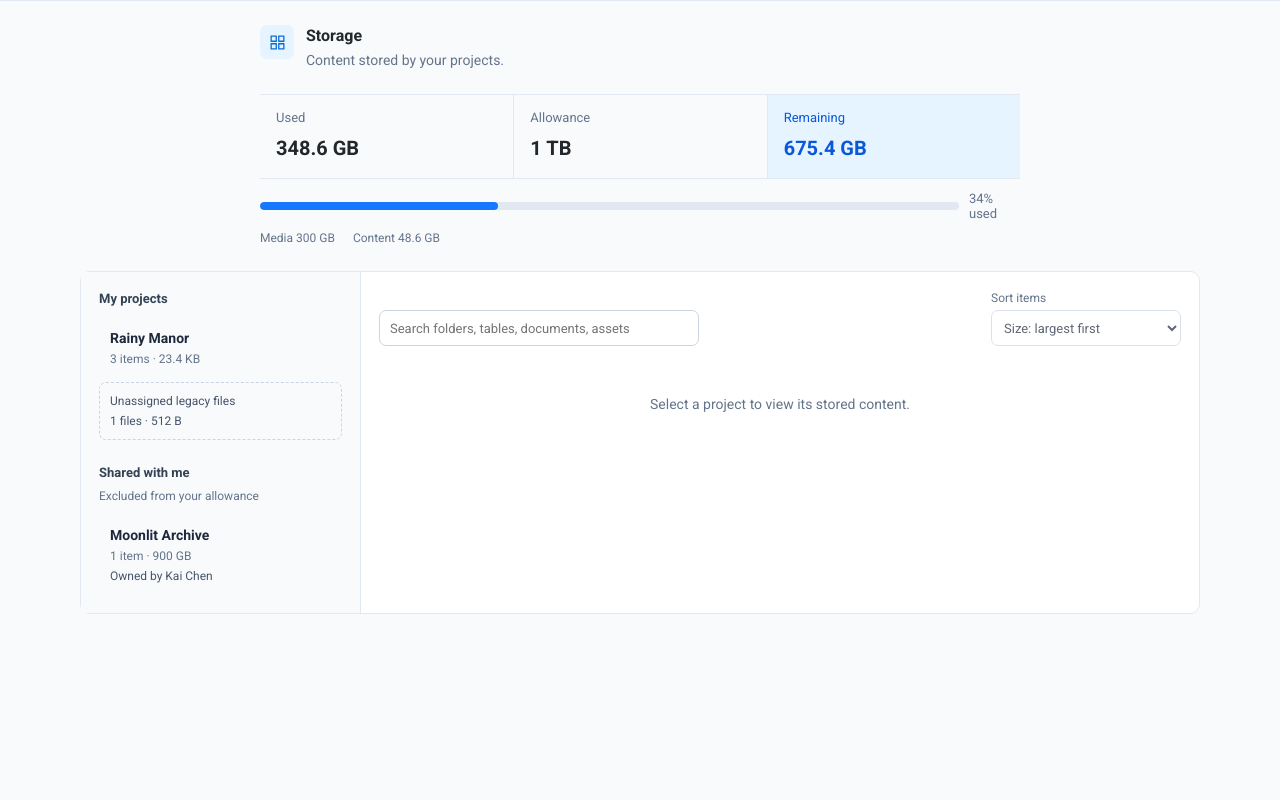
Test: AccountStorageSection › opens Folder rows as directories and returns through the breadcrumb
Check: the text "348.6 GB" is shown, box left=276, top=136, right=359, bottom=160
Click the button "Rainy Manor 3 items · 23.4 KB": (220, 348) left=99, top=318, right=342, bottom=378
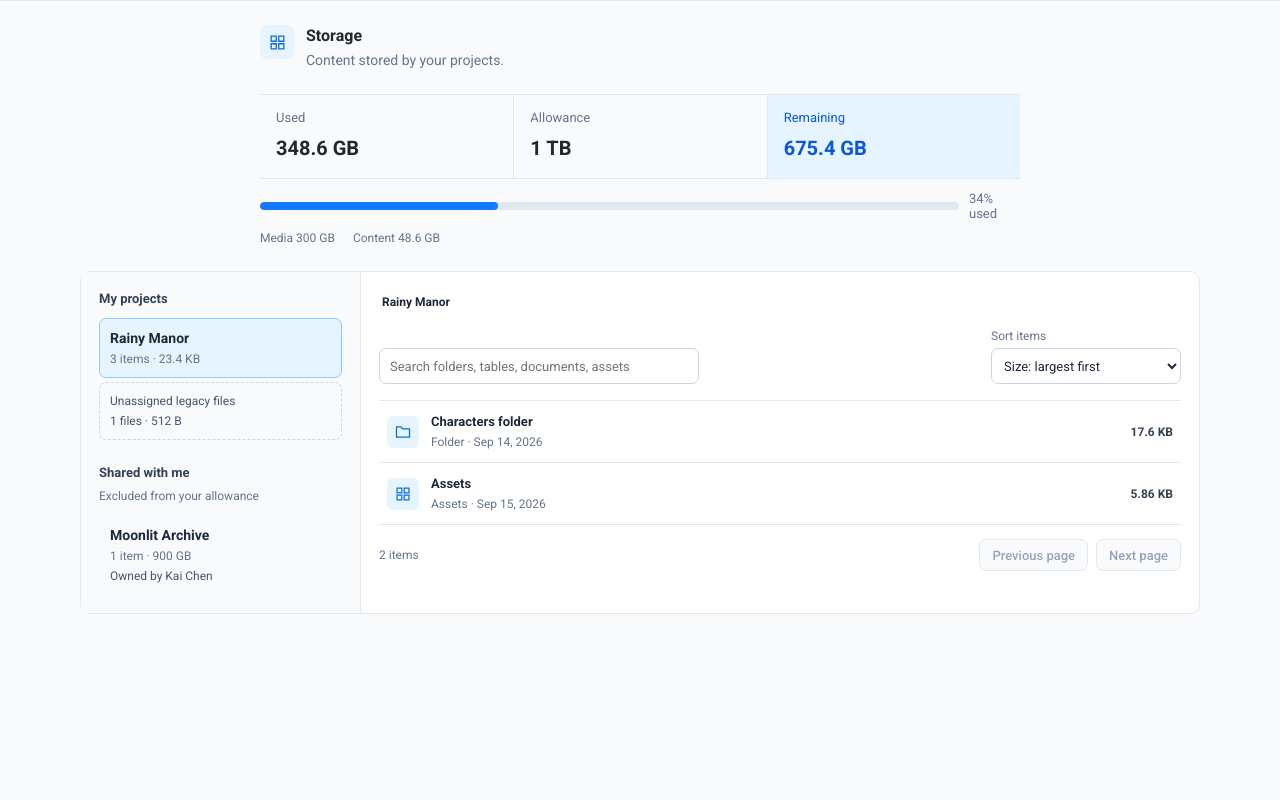
Click the list item "Characters folder": (403, 432) left=379, top=401, right=1181, bottom=463
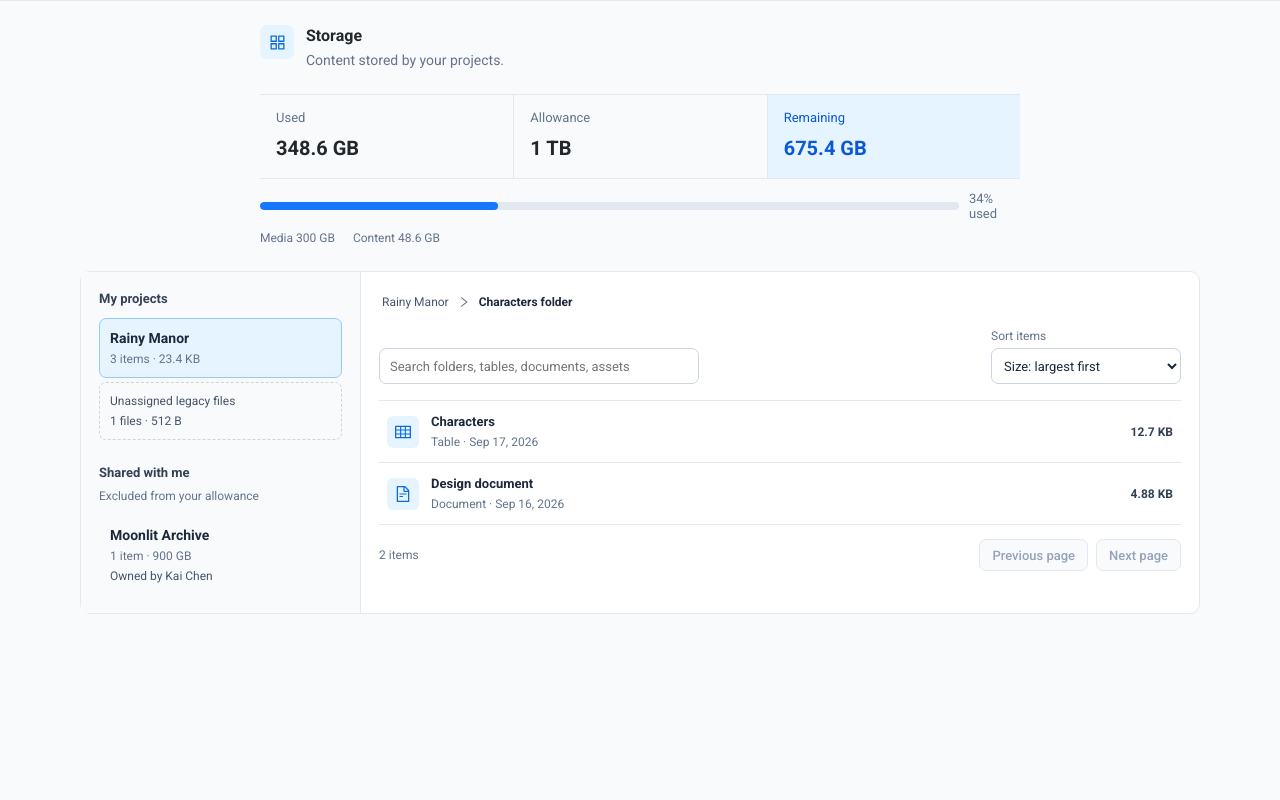
Check: the text "Characters" is shown, box left=431, top=414, right=495, bottom=428
Check: the navigation bar named "Project storage path" shows "Rainy Manor"
Check: the text "Design document" is shown, box left=431, top=476, right=533, bottom=490
Click the button "Rainy Manor": (415, 302) left=379, top=290, right=452, bottom=314
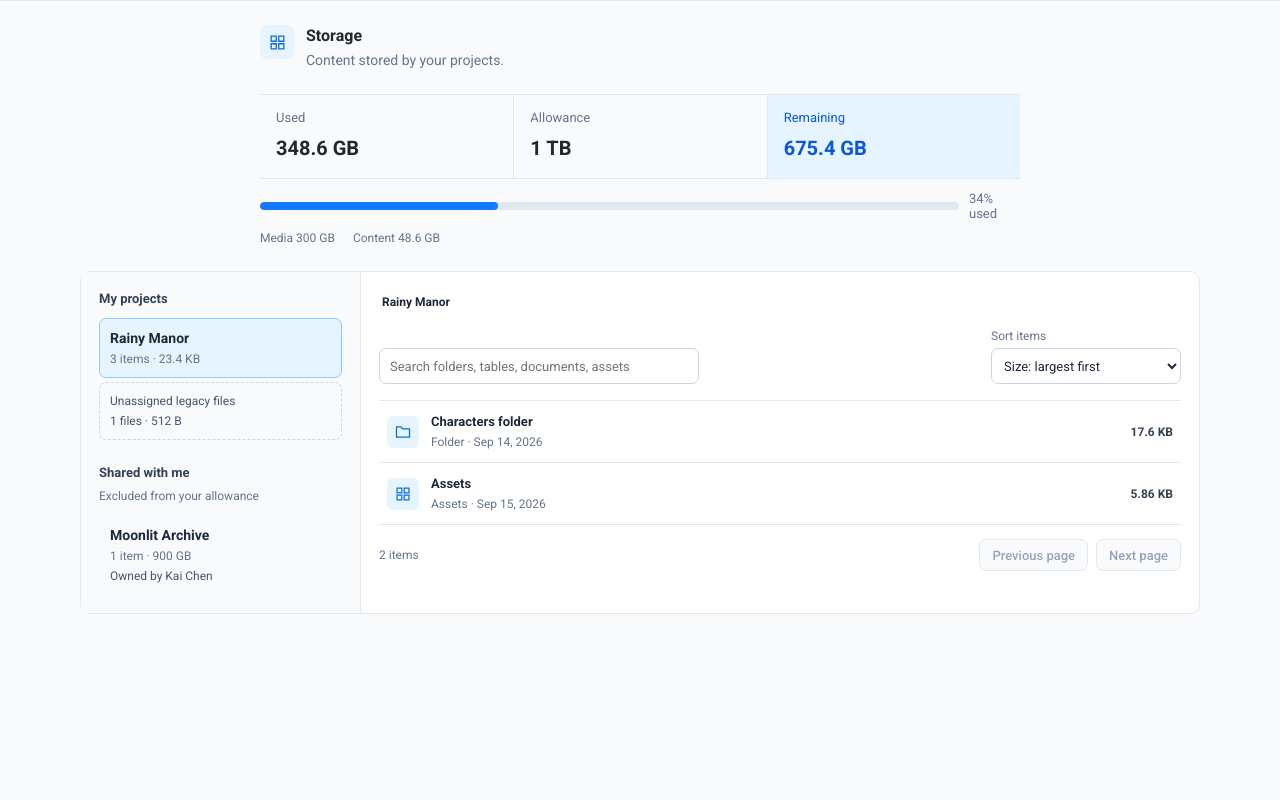
Check: the text "Assets" is shown, box left=431, top=476, right=471, bottom=490
